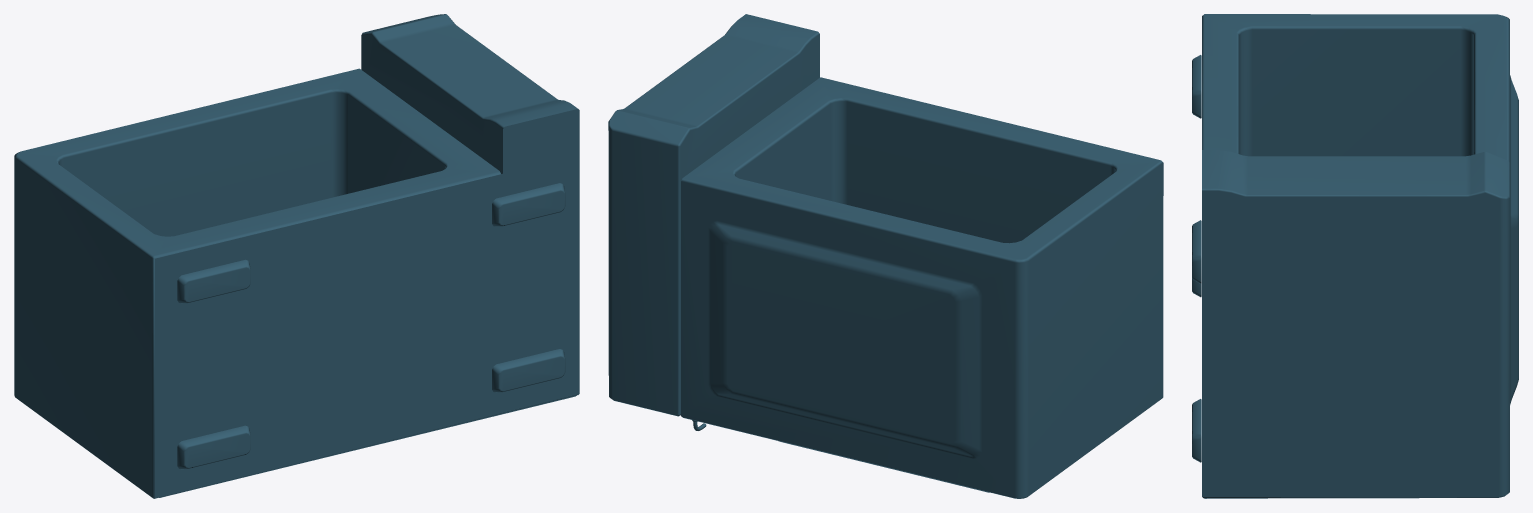
Rendered from SM_MicStove_01.fbx.
3 renders of one model, left to right at view 1: azimuth 30°, elevation 25°; view 2: azimuth 150°, elevation 25°; view 3: azimuth 270°, elevation 25°, orthographic. The views are drawn at different scales.
Parts seen in each view (by area): view 1: SM_MicStove_01; view 2: SM_MicStove_01; view 3: SM_MicStove_01.
Boxes of the visible parts, x1,y1,x2,y2 form: SM_MicStove_01: [14, 14, 579, 498]; SM_MicStove_01: [608, 14, 1163, 498]; SM_MicStove_01: [1192, 14, 1518, 498].
Size of the model in its own units: 66.79 by 47.31 by 41.12.
